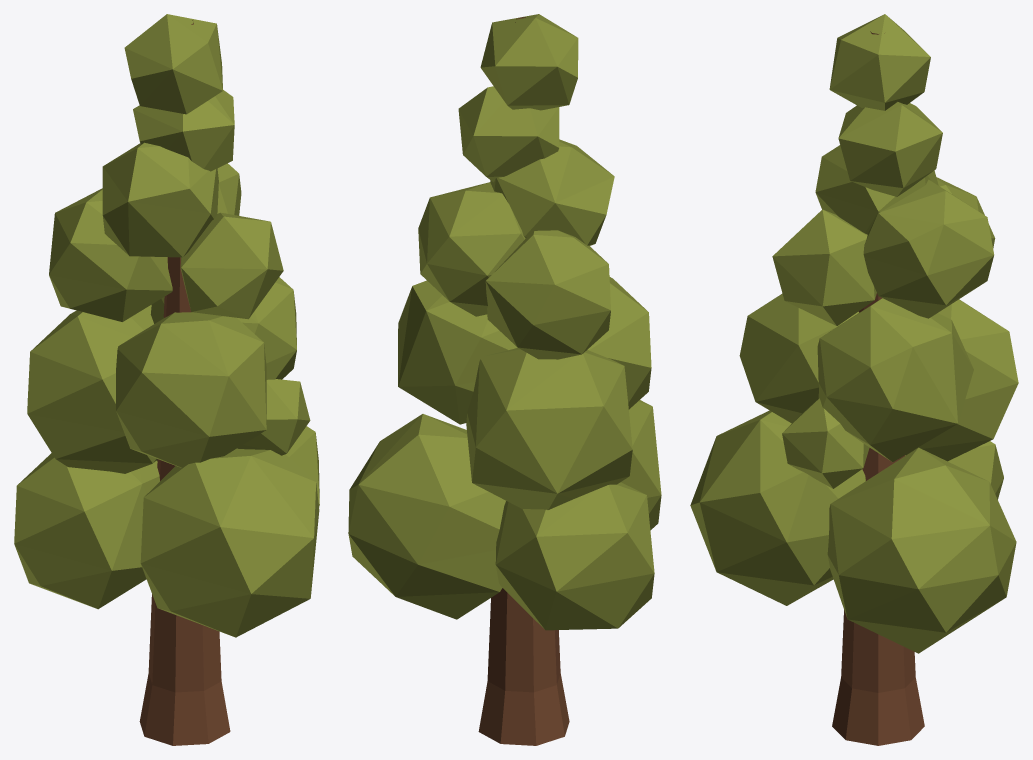
Rendered from arbol 1.fbx.
3 renders of one model, left to right at view 1: azimuth 30°, elevation 25°; view 2: azimuth 150°, elevation 25°; view 3: azimuth 270°, elevation 25°, orthographic.
Parts seen in each view (by area): view 1: arbol_1; view 2: arbol_1; view 3: arbol_1.
Boxes of the visible parts, bbox=[...] form: arbol_1: bbox=[14, 14, 319, 745]; arbol_1: bbox=[348, 14, 661, 745]; arbol_1: bbox=[690, 14, 1018, 745].
Size of the model in its own units: 314 by 704 by 297.
